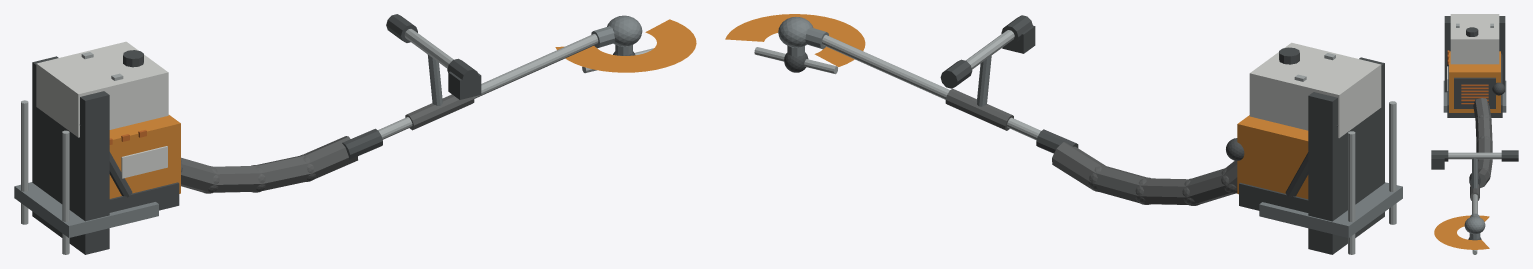
File: Grass_Cutter.glb
3 renders of one model, left to right at view 1: azimuth 30°, elevation 25°; view 2: azimuth 150°, elevation 25°; view 3: azimuth 270°, elevation 25°, orthographic. The views are drawn at different scales.
Visible parts, largest first — view 1: backpack_black_backplate, white_fuel_tank, engine_orange_cover, orange_cutting_guard, backpack_frame, silver_shaft, flexible_black_drive_hose_3, engine_lower_dark, flexible_black_drive_hose_4, flexible_black_drive_hose_2, motor_side_label, shaft_grip (+11 smaller); view 2: backpack_black_backplate, white_fuel_tank, engine_orange_cover, backpack_frame, orange_cutting_guard, silver_shaft, flexible_black_drive_hose_4, engine_lower_dark, flexible_black_drive_hose_3, shaft_grip, flexible_black_drive_hose_2, flexible_black_drive_hose_1 (+11 smaller); view 3: white_fuel_tank, engine_orange_cover, engine_front_black_grill, orange_cutting_guard, backpack_black_backplate, handlebar, flexible_black_drive_hose_1, gearbox, flexible_black_drive_hose_0, engine_lower_dark, backpack_frame, flexible_black_drive_hose_2 (+16 smaller).
Boxes of the visible parts, <box> form: backpack_black_backplate: <box>32,56,109,254</box>; white_fuel_tank: <box>36,41,168,137</box>; engine_orange_cover: <box>109,115,180,198</box>; orange_cutting_guard: <box>555,19,696,72</box>; backpack_frame: <box>14,182,158,237</box>; silver_shaft: <box>378,34,598,139</box>; flexible_black_drive_hose_3: <box>257,156,311,191</box>; engine_lower_dark: <box>109,182,179,212</box>; flexible_black_drive_hose_4: <box>304,136,357,180</box>; flexible_black_drive_hose_2: <box>212,165,261,192</box>; motor_side_label: <box>121,146,167,178</box>; shaft_grip: <box>405,94,474,130</box>; backpack_black_backplate: <box>1308,57,1384,254</box>; white_fuel_tank: <box>1249,42,1381,138</box>; engine_orange_cover: <box>1237,115,1308,198</box>; backpack_frame: <box>1259,182,1402,237</box>; orange_cutting_guard: <box>725,14,865,66</box>; silver_shaft: <box>822,35,1040,140</box>; flexible_black_drive_hose_4: <box>1052,142,1104,188</box>; engine_lower_dark: <box>1239,182,1308,212</box>; flexible_black_drive_hose_3: <box>1092,166,1145,203</box>; shaft_grip: <box>945,88,1013,130</box>; flexible_black_drive_hose_2: <box>1140,178,1189,204</box>; flexible_black_drive_hose_1: <box>1186,168,1233,204</box>; white_fuel_tank: <box>1450,14,1499,64</box>; engine_orange_cover: <box>1449,51,1500,112</box>; engine_front_black_grill: <box>1454,77,1495,108</box>; orange_cutting_guard: <box>1434,215,1489,249</box>; backpack_black_backplate: <box>1444,16,1505,92</box>; handlebar: <box>1448,152,1501,159</box>; flexible_black_drive_hose_1: <box>1475,116,1492,141</box>; gearbox: <box>1464,216,1485,234</box>; flexible_black_drive_hose_0: <box>1473,98,1491,119</box>; engine_lower_dark: <box>1447,91,1502,117</box>; backpack_frame: <box>1443,80,1506,112</box>; flexible_black_drive_hose_2: <box>1476,137,1492,161</box>.
Size of the model in its own units: 4.51 by 1.19 by 0.92.
